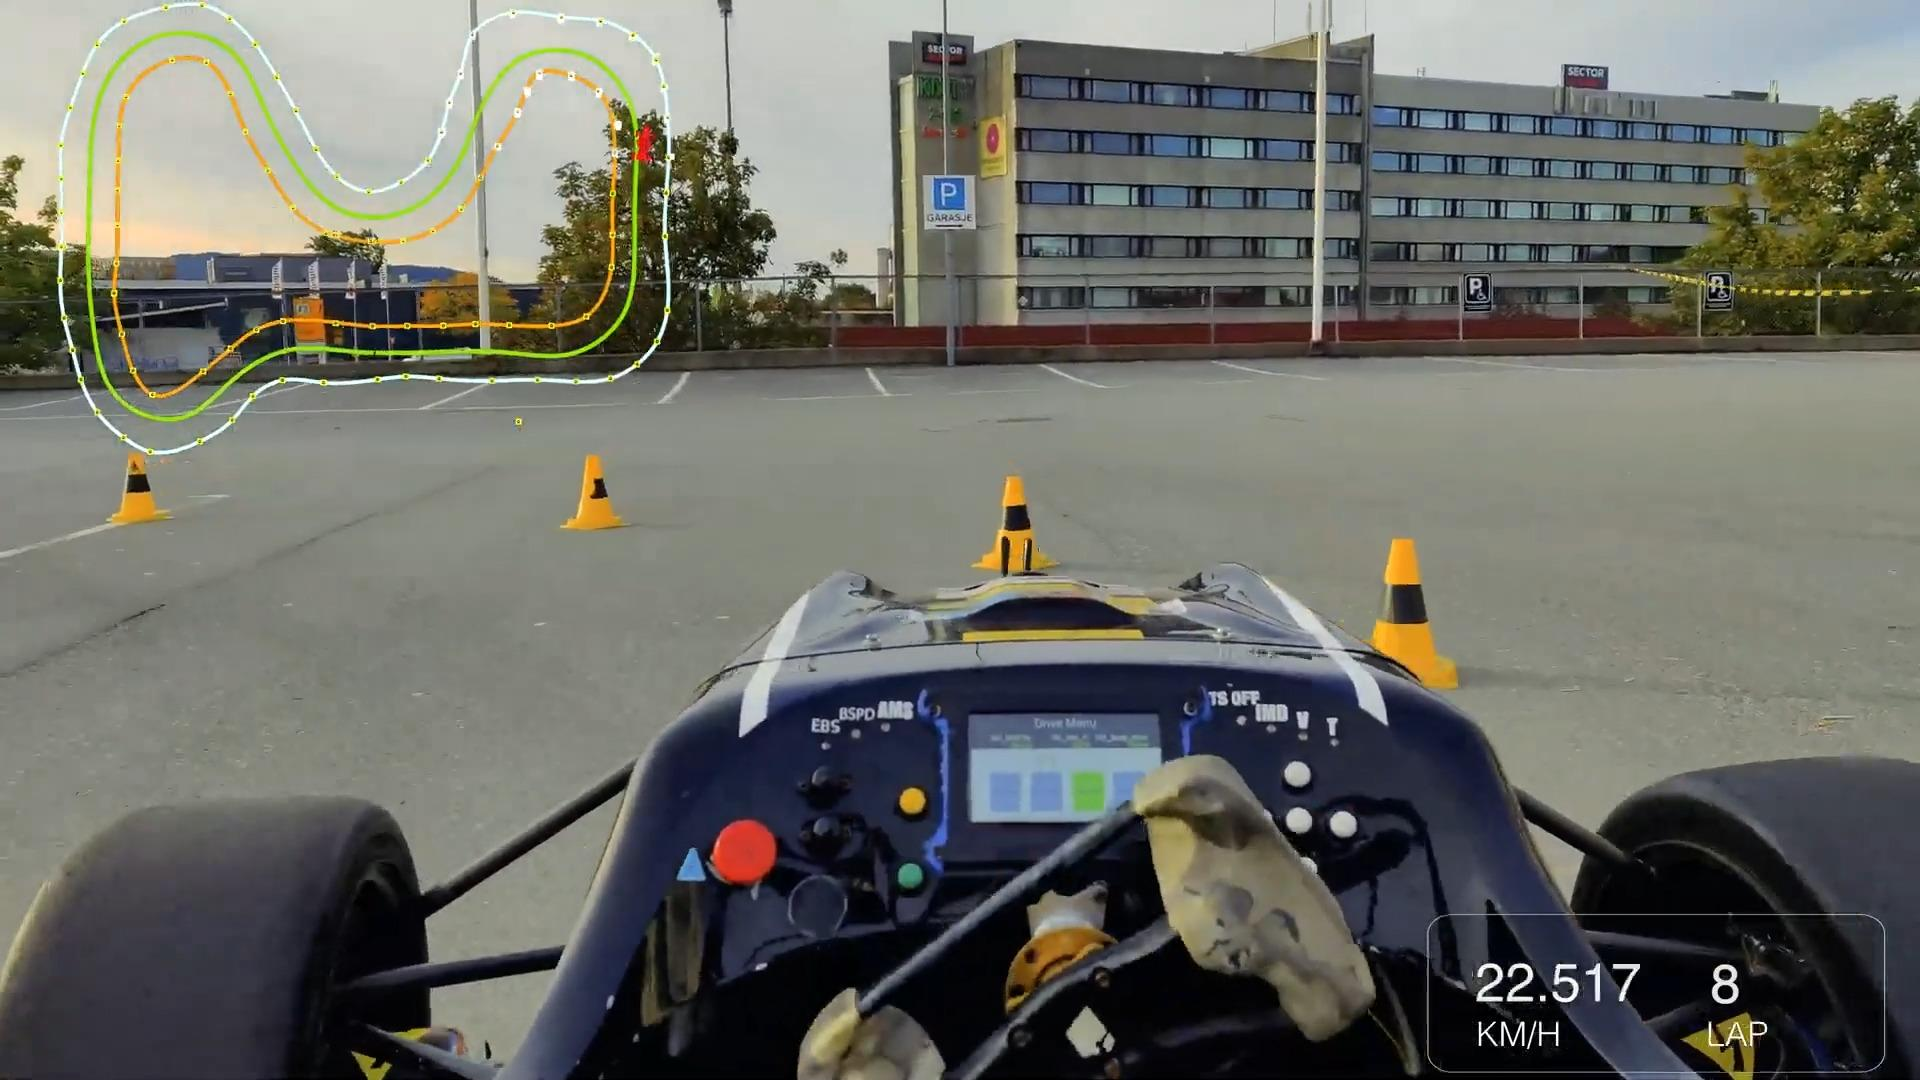yellow_cone: (1333, 529, 1477, 687), (538, 440, 633, 546), (972, 467, 1055, 584), (95, 451, 166, 542)
